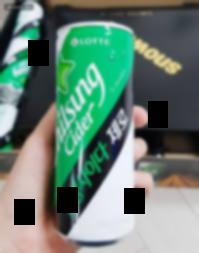chilsungcider_zero: (45, 21, 144, 249)
